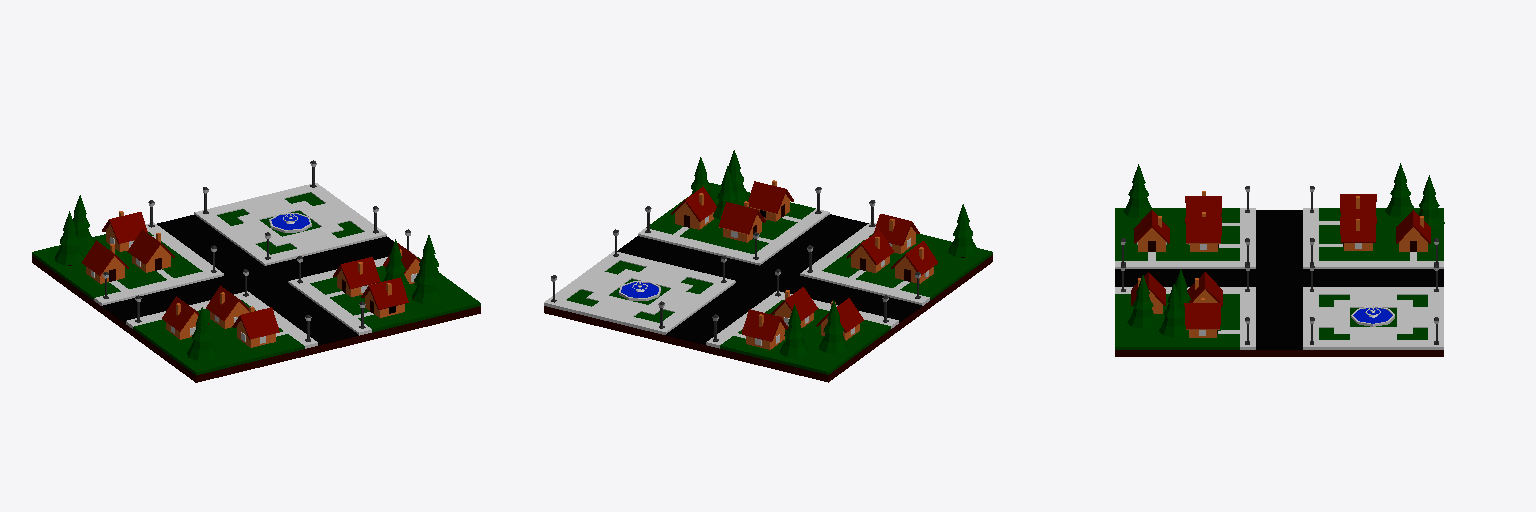
File: neighborhood.obj
The picture shows the model from 3 angles: view 1: azimuth 30°, elevation 25°; view 2: azimuth 150°, elevation 25°; view 3: azimuth 270°, elevation 25°; orthographic projection.
Parts seen in each view (by area): view 1: Cube.006, Cube.010, Cube.002, Cube.008, Cube.001, Cube.007, Cube.012, Cube.009, Cube.011, Cylinder.002, Cylinder.004, Cylinder (+3 smaller); view 2: Cube.006, Cube.001, Cube.012, Cube.002, Cube.009, Cube.003, Cube.011, Cube.010, Cube.008, Cylinder, Cylinder.002, Cylinder.001 (+3 smaller); view 3: Cube.006, Cube.009, Cube.003, Cube.008, Cube.010, Cube.012, Cylinder.004, Cylinder.005, Cylinder, Cube.007, Cylinder.002, Cube.011 (+4 smaller).
Boxes of the visible parts, <box> form: Cube.006: <box>32,183,480,382</box>; Cube.010: <box>232,306,279,347</box>; Cube.002: <box>361,277,408,317</box>; Cube.008: <box>127,229,174,272</box>; Cube.001: <box>333,257,380,296</box>; Cube.007: <box>82,240,128,283</box>; Cube.012: <box>102,211,147,251</box>; Cube.009: <box>206,285,248,328</box>; Cube.011: <box>162,296,208,339</box>; Cylinder.002: <box>187,307,216,360</box>; Cylinder.004: <box>412,250,441,303</box>; Cylinder: <box>55,211,83,265</box>; Cube.006: <box>544,183,992,382</box>; Cube.001: <box>718,201,765,242</box>; Cube.012: <box>742,309,787,349</box>; Cube.002: <box>748,180,793,221</box>; Cube.009: <box>847,230,893,272</box>; Cube.003: <box>671,186,716,229</box>; Cube.011: <box>891,241,937,283</box>; Cube.010: <box>874,214,919,253</box>; Cube.008: <box>771,287,817,327</box>; Cylinder: <box>819,300,848,353</box>; Cylinder.002: <box>948,204,977,257</box>; Cylinder.001: <box>780,304,809,357</box>; Cube.006: <box>1115,208,1443,356</box>; Cube.009: <box>1185,212,1221,251</box>; Cube.003: <box>1184,298,1221,337</box>; Cube.008: <box>1340,217,1376,250</box>; Cube.010: <box>1134,210,1169,251</box>; Cube.012: <box>1396,210,1430,251</box>; Cylinder.004: <box>1127,275,1158,328</box>; Cylinder.005: <box>1159,284,1188,337</box>; Cylinder: <box>1385,163,1415,217</box>; Cube.007: <box>1340,194,1376,216</box>; Cylinder.002: <box>1123,164,1153,217</box>; Cube.011: <box>1185,191,1221,216</box>.
Size of the model in its own units: 22.98 by 4.92 by 23.05.